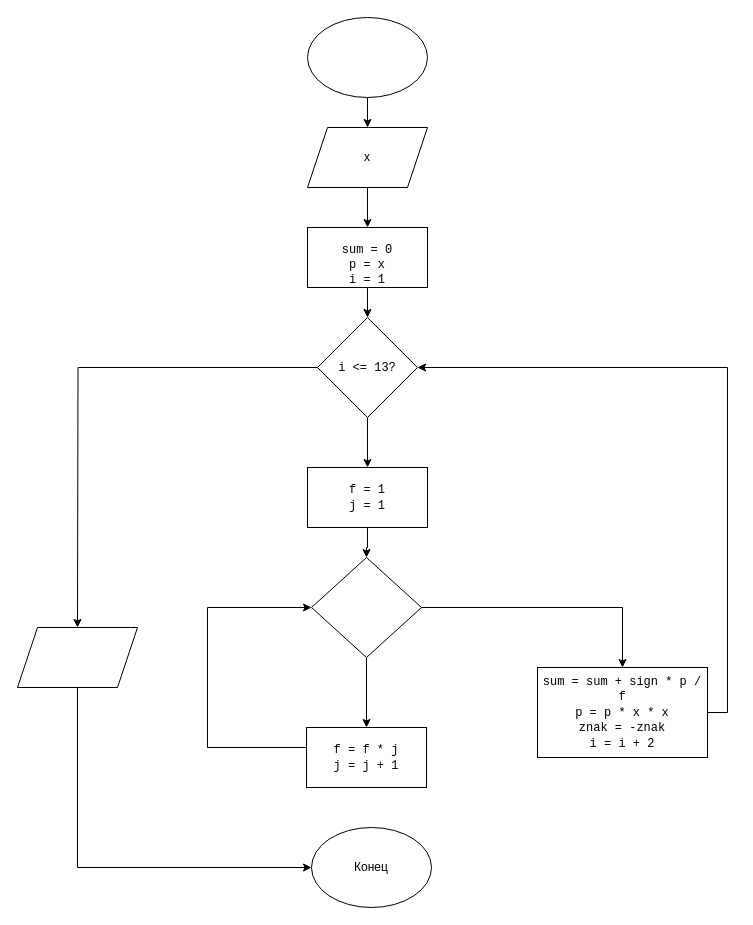
The diagram is 753 pixels wide and 925 high, and some of its shapes have lost their labels. The shapes that lost their labels are listed below. From the top down, each one's centre as x and y in pixels, then its label:
[367,57]: Начало
[366,607]: j <= i?
[77,657]: sum
